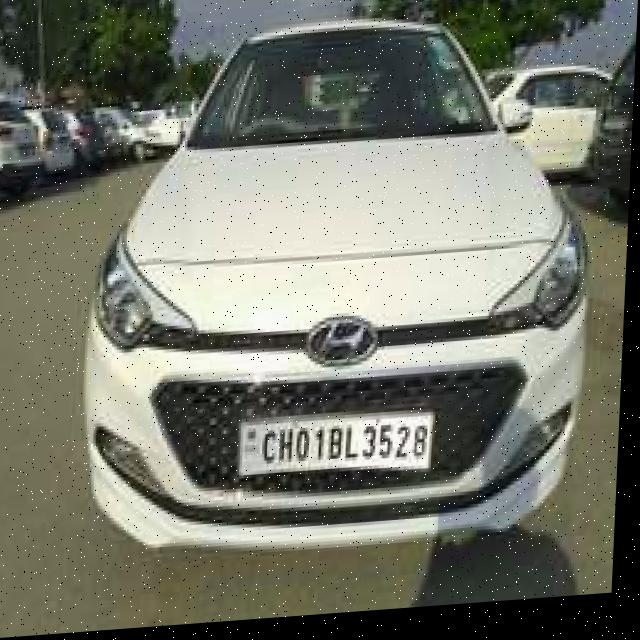plate: (240, 412, 437, 492)
